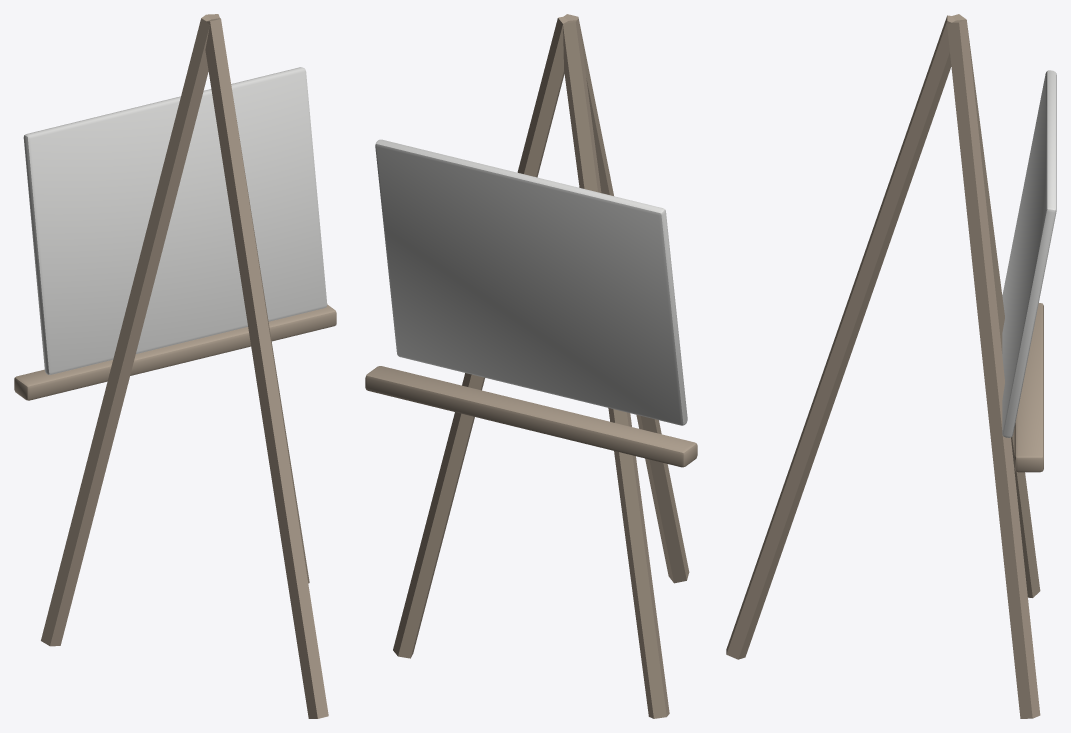
File: easel.gltf
3 views of the same model, side by side, from view 1: azimuth 30°, elevation 25°; view 2: azimuth 150°, elevation 25°; view 3: azimuth 270°, elevation 25° (orthographic). The views are drawn at different scales.
Parts seen in each view (by area): view 1: Body; view 2: Body; view 3: Body.
Boxes of the visible parts, x1,y1,x2,y2 form: Body: (14, 14, 336, 718); Body: (365, 14, 697, 718); Body: (726, 14, 1056, 718).
Bounding box in the file's own units: 1 × 1.92 × 0.897.
